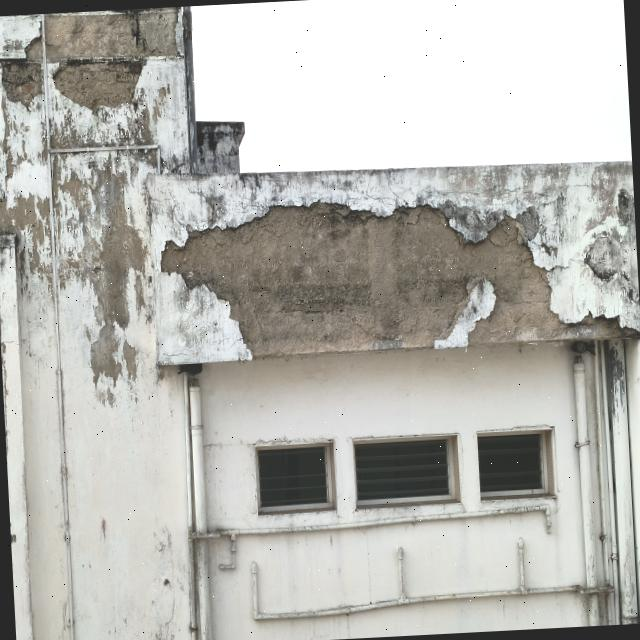Moss growth due to damping: (439, 201, 503, 243), (585, 236, 621, 280), (516, 207, 539, 240)
Paint Peeling: (53, 152, 151, 383), (0, 63, 51, 234)
Scaling: (162, 203, 571, 358), (45, 7, 177, 112), (2, 37, 44, 106)
